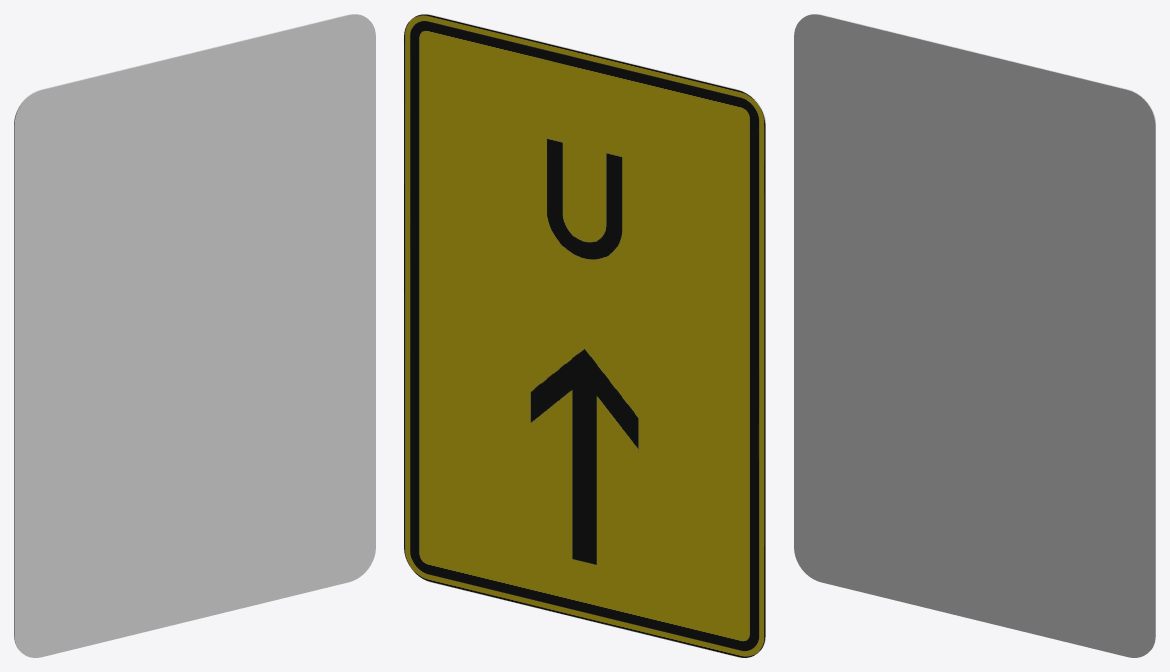
The picture shows the model from 3 angles, left to right: view 1: azimuth 30°, elevation 25°; view 2: azimuth 150°, elevation 25°; view 3: azimuth 330°, elevation 25°; orthographic projection.
Parts seen in each view (by area): view 1: Plane; view 2: Plane; view 3: Plane.
Part boxes in pixels (left/top/right/bottom): Plane: left=14, top=14, right=375, bottom=657; Plane: left=404, top=14, right=765, bottom=657; Plane: left=794, top=14, right=1155, bottom=657.
Bounding box in the file's own units: 0.6 × 0.9 × 0.002.
2 materials, 1 textured.
